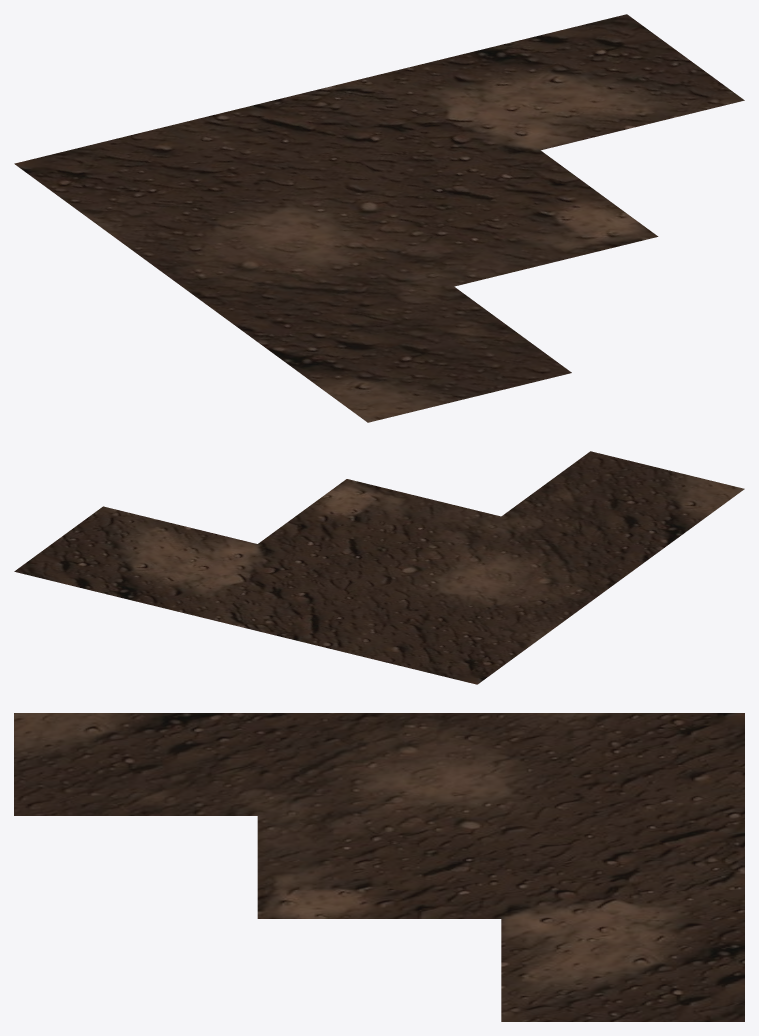
File: floor_3_-7.glb
3 views of the same model, one above another, from view 1: azimuth 30°, elevation 25°; view 2: azimuth 150°, elevation 25°; view 3: azimuth 270°, elevation 25° (orthographic). The views are drawn at different scales.
Parts seen in each view (by area): view 1: floor_3_-7; view 2: floor_3_-7; view 3: floor_3_-7.
Boxes of the visible parts, left/top/right/bottom form: floor_3_-7: left=14, top=14, right=744, bottom=422; floor_3_-7: left=14, top=451, right=744, bottom=684; floor_3_-7: left=14, top=713, right=744, bottom=1021.
Bounding box in the file's own units: 12 × 0 × 12.
1 material, 1 textured.
